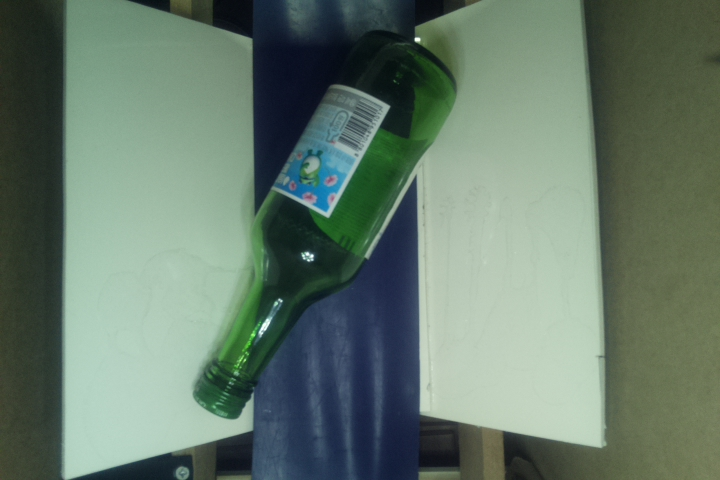soju: (189, 27, 464, 424)
